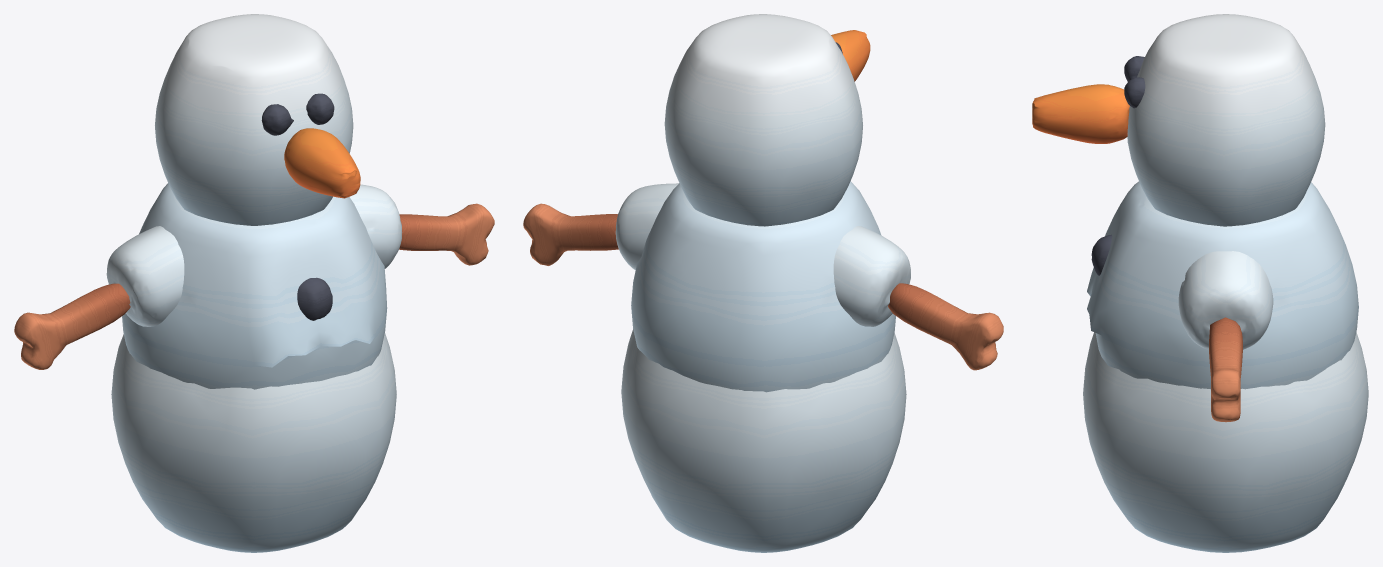
3 renders of one model, left to right at view 1: azimuth 30°, elevation 25°; view 2: azimuth 150°, elevation 25°; view 3: azimuth 270°, elevation 25°, orthographic.
Bounding box in the file's own units: 0.9888 × 0.9646 × 0.6068.
Materials: 1 (1 with a texture image).
